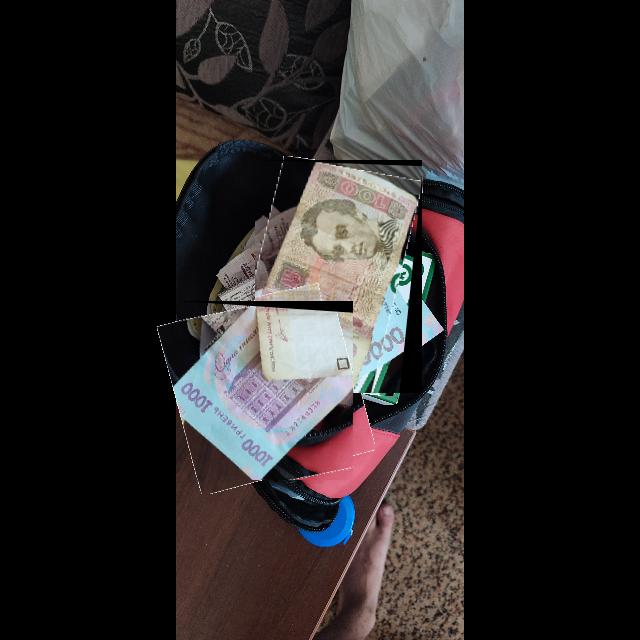1000uah: (177, 306, 354, 481)
100uah: (255, 162, 420, 394)
